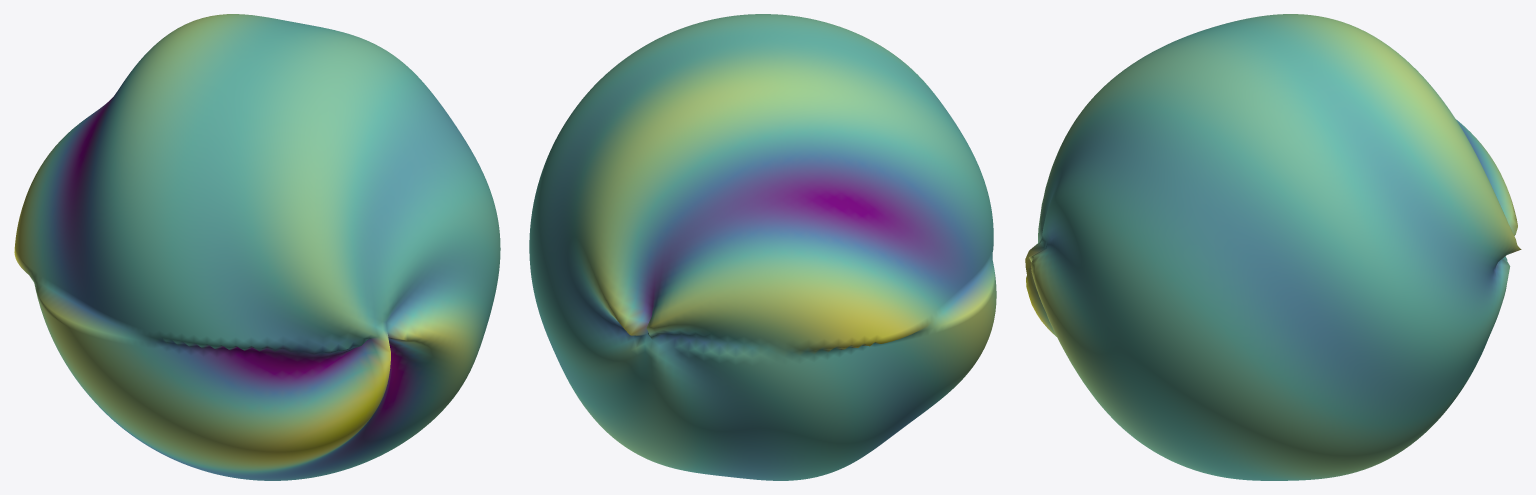
The model's file is sphere_frame_0001.glb.
The picture shows the model from 3 angles, left to right: view 1: azimuth 30°, elevation 25°; view 2: azimuth 150°, elevation 25°; view 3: azimuth 270°, elevation 25°; orthographic projection.
Parts seen in each view (by area): view 1: world; view 2: world; view 3: world.
Boxes of the visible parts, box(x1,y1,x2,y2) form: world: box(14, 14, 500, 480); world: box(529, 14, 996, 480); world: box(1025, 14, 1521, 480).
Size of the model in its own units: 2.2 by 2.15 by 2.3.
